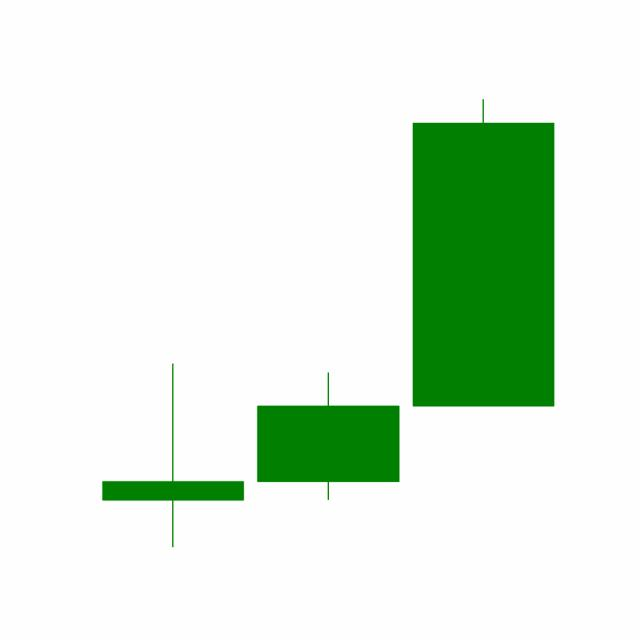Marubozu: (405, 95, 561, 409)
